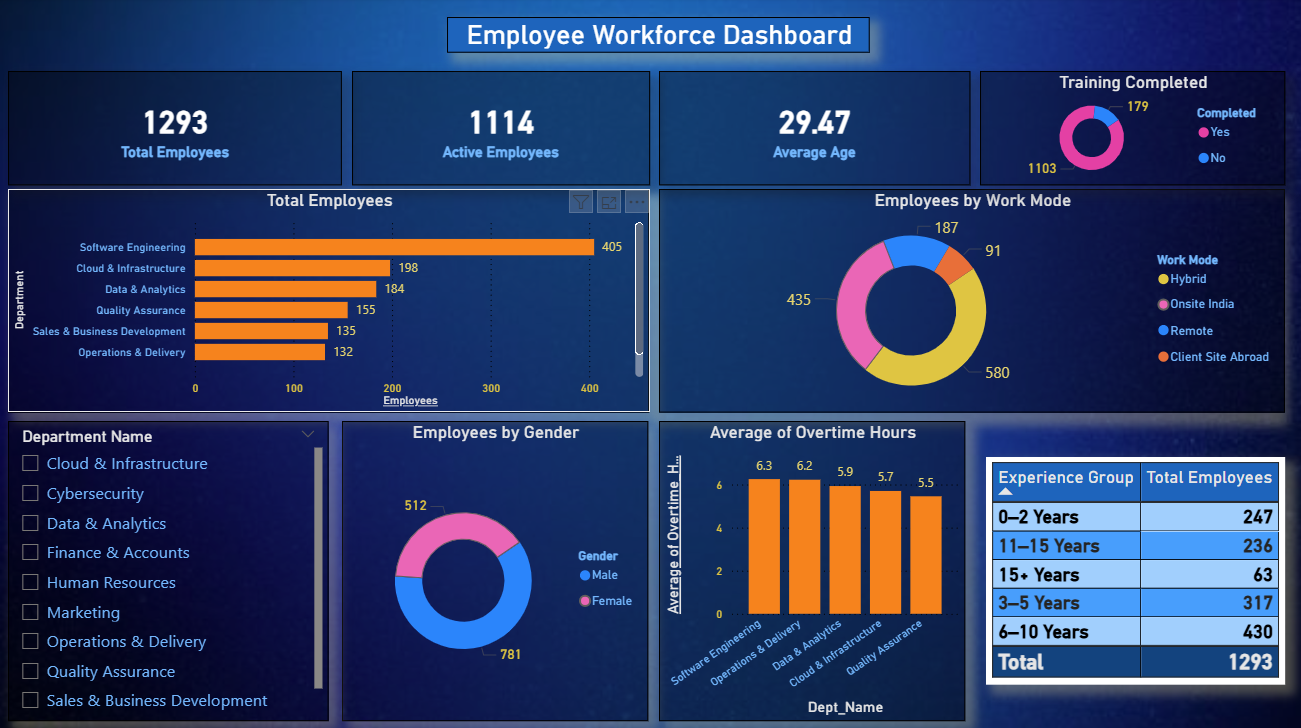

This screenshot's page, from the dashboard's own definition file:
{"tool":"powerbi","page":{"name":"Page 1","canvas":[1280,720],"ordinal":0},"visuals":[{"type":"card","fields":{"Values":["attendance.Total Employees"]},"box":[11.9,71.4,327.3,111.9],"z":0},{"type":"card","fields":{"Values":["attendance.Active Employees"]},"box":[348.7,71.4,291.6,111.9],"z":1000},{"type":"card","fields":{"Values":["attendance.Average Age"]},"box":[649.8,71.4,304.7,111.9],"z":2000},{"type":"clusteredBarChart","title":"Total Employees","fields":{"Y":["attendance.Total Employees"],"Category":["departments.Dept_Name"]},"box":[11.9,186.8,628.4,219],"z":3000},{"type":"donutChart","title":"Employees by Work Mode","fields":{"Y":["attendance.Total Employees"],"Category":["employees.Work_Mode"]},"box":[649.8,186.8,612.9,219],"z":4000},{"type":"donutChart","title":"Employees by Gender","fields":{"Category":["employees.Gender"],"Y":["attendance.Total Employees"]},"box":[441.7,414.3,477.9,293.8],"z":5000},{"type":"slicer","fields":{"Values":["departments.Dept_Name"]},"box":[11.8,414.3,404.5,293.8],"z":6000},{"type":"tableEx","fields":{"Values":["employees.Experience Group","attendance.Total Employees"]},"box":[947,448.5,298.7,224.3],"z":7000},{"type":"donutChart","title":"Training Completed","fields":{"Category":["training.Completed"],"Y":["attendance.Total Training"]},"box":[964,71.4,298.7,111.9],"z":8000},{"type":"textbox","title":"Employee Workforce Dashboard","box":[441.7,18.6,414.3,35.3],"z":8001}]}

Visuals, with their boxes in screenshot pixels (x1, y1, x2, y2), scaled from the page's 1280x720 canvas onto the 1301x728 screenshot:
card - attendance.Total Employees: rect(12, 72, 345, 185)
card - attendance.Active Employees: rect(354, 72, 651, 185)
card - attendance.Average Age: rect(660, 72, 970, 185)
"Total Employees" clusteredBarChart: rect(12, 189, 651, 410)
"Employees by Work Mode" donutChart: rect(660, 189, 1283, 410)
"Employees by Gender" donutChart: rect(449, 419, 935, 716)
slicer - departments.Dept_Name: rect(12, 419, 423, 716)
tableEx - employees.Experience Group x attendance.Total Employees: rect(963, 453, 1266, 680)
"Training Completed" donutChart: rect(980, 72, 1283, 185)
"Employee Workforce Dashboard" textbox: rect(449, 19, 870, 54)
